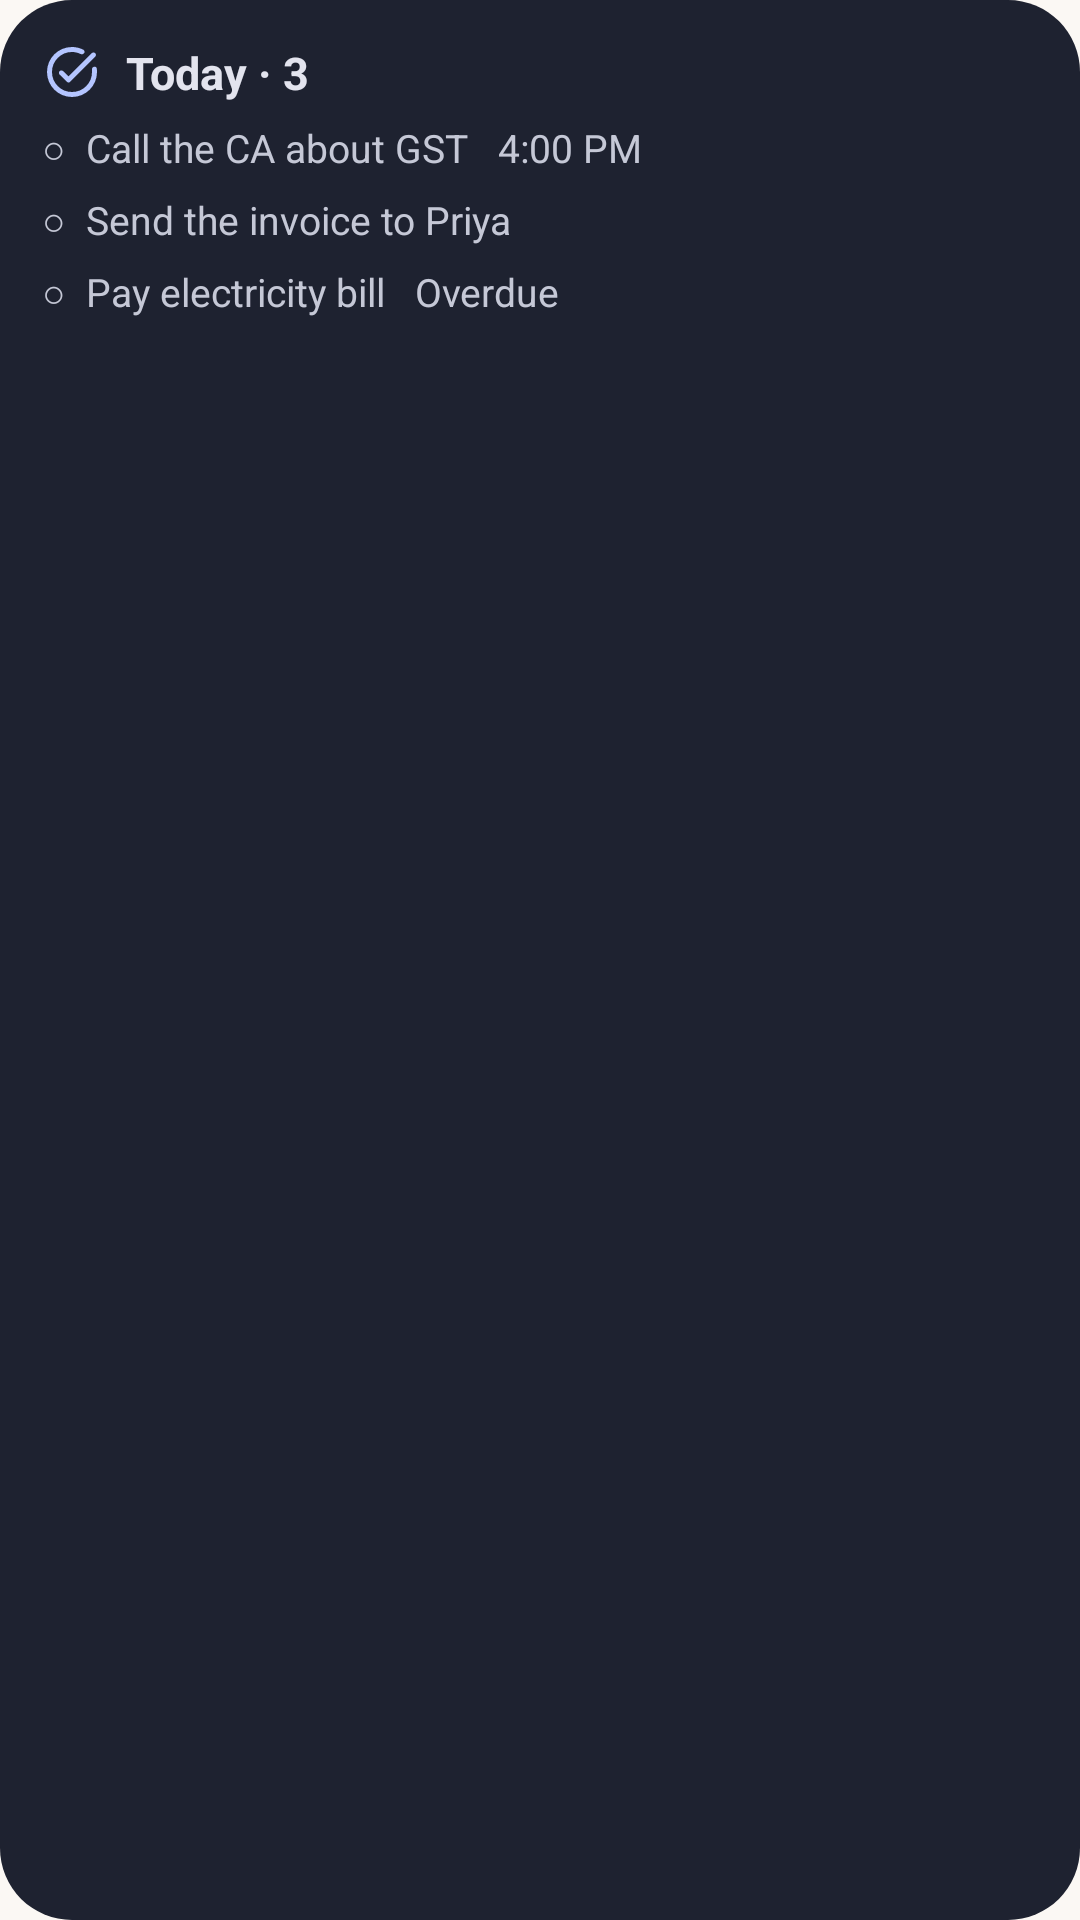

Where to tap for icons on this 1080px x 1920px app screen, as [x,y]:
task: [72,72]
